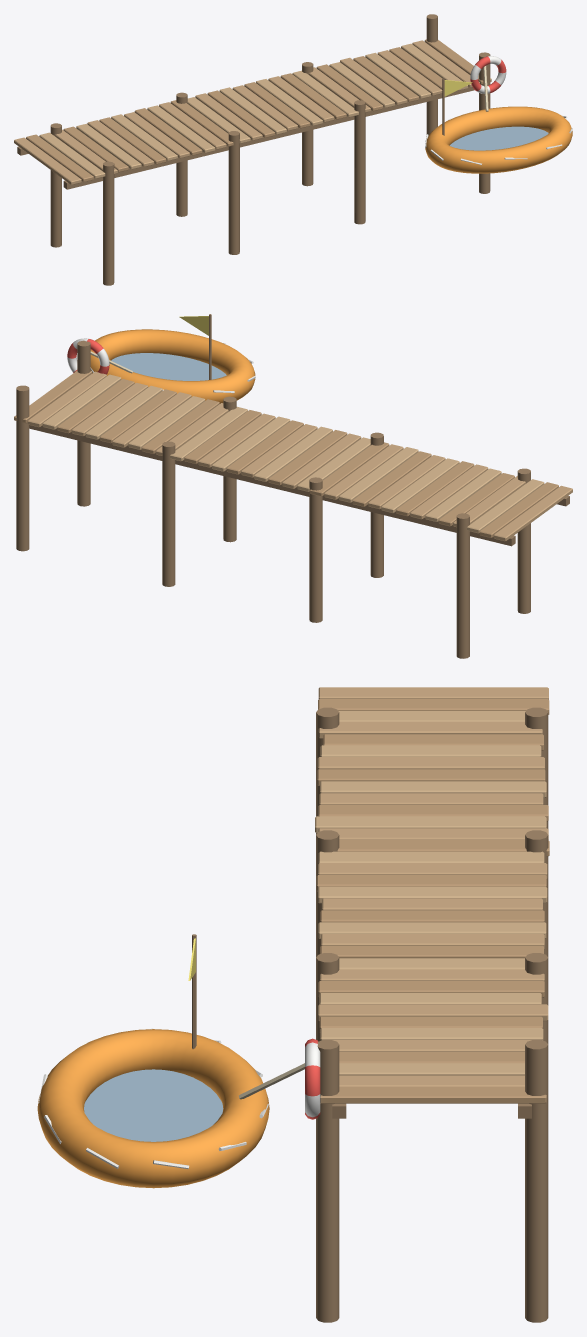
Rendered from dock.glb.
3 views of the same model, one above another, from view 1: azimuth 30°, elevation 25°; view 2: azimuth 150°, elevation 25°; view 3: azimuth 270°, elevation 25° (orthographic). The views are drawn at different scales.
Parts seen in each view (by area): view 1: dock, raft; view 2: dock, raft; view 3: dock, raft.
Boxes of the visible parts, <box> form: dock: <box>14,14,506,285</box>; raft: <box>425,78,572,173</box>; dock: <box>14,338,572,658</box>; raft: <box>90,314,255,403</box>; dock: <box>239,687,549,1322</box>; raft: <box>37,934,269,1188</box>.
Bounding box in the file's own units: 9.06 × 2.95 × 4.41.
